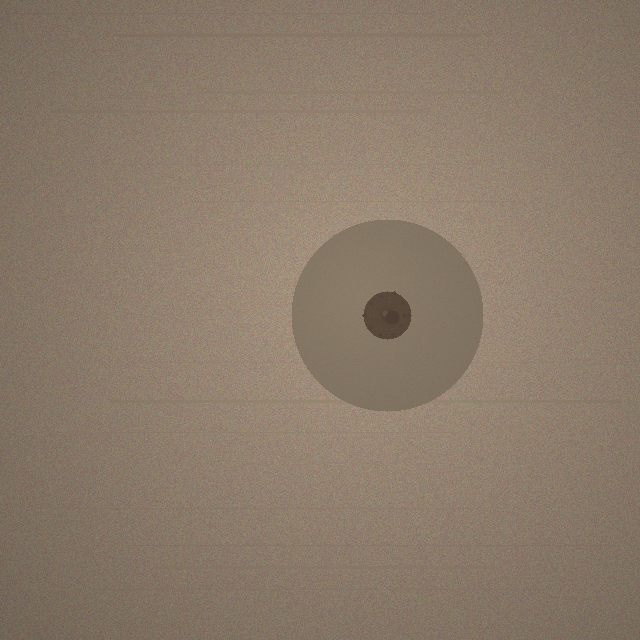cold_weld: (291, 219, 483, 411)
